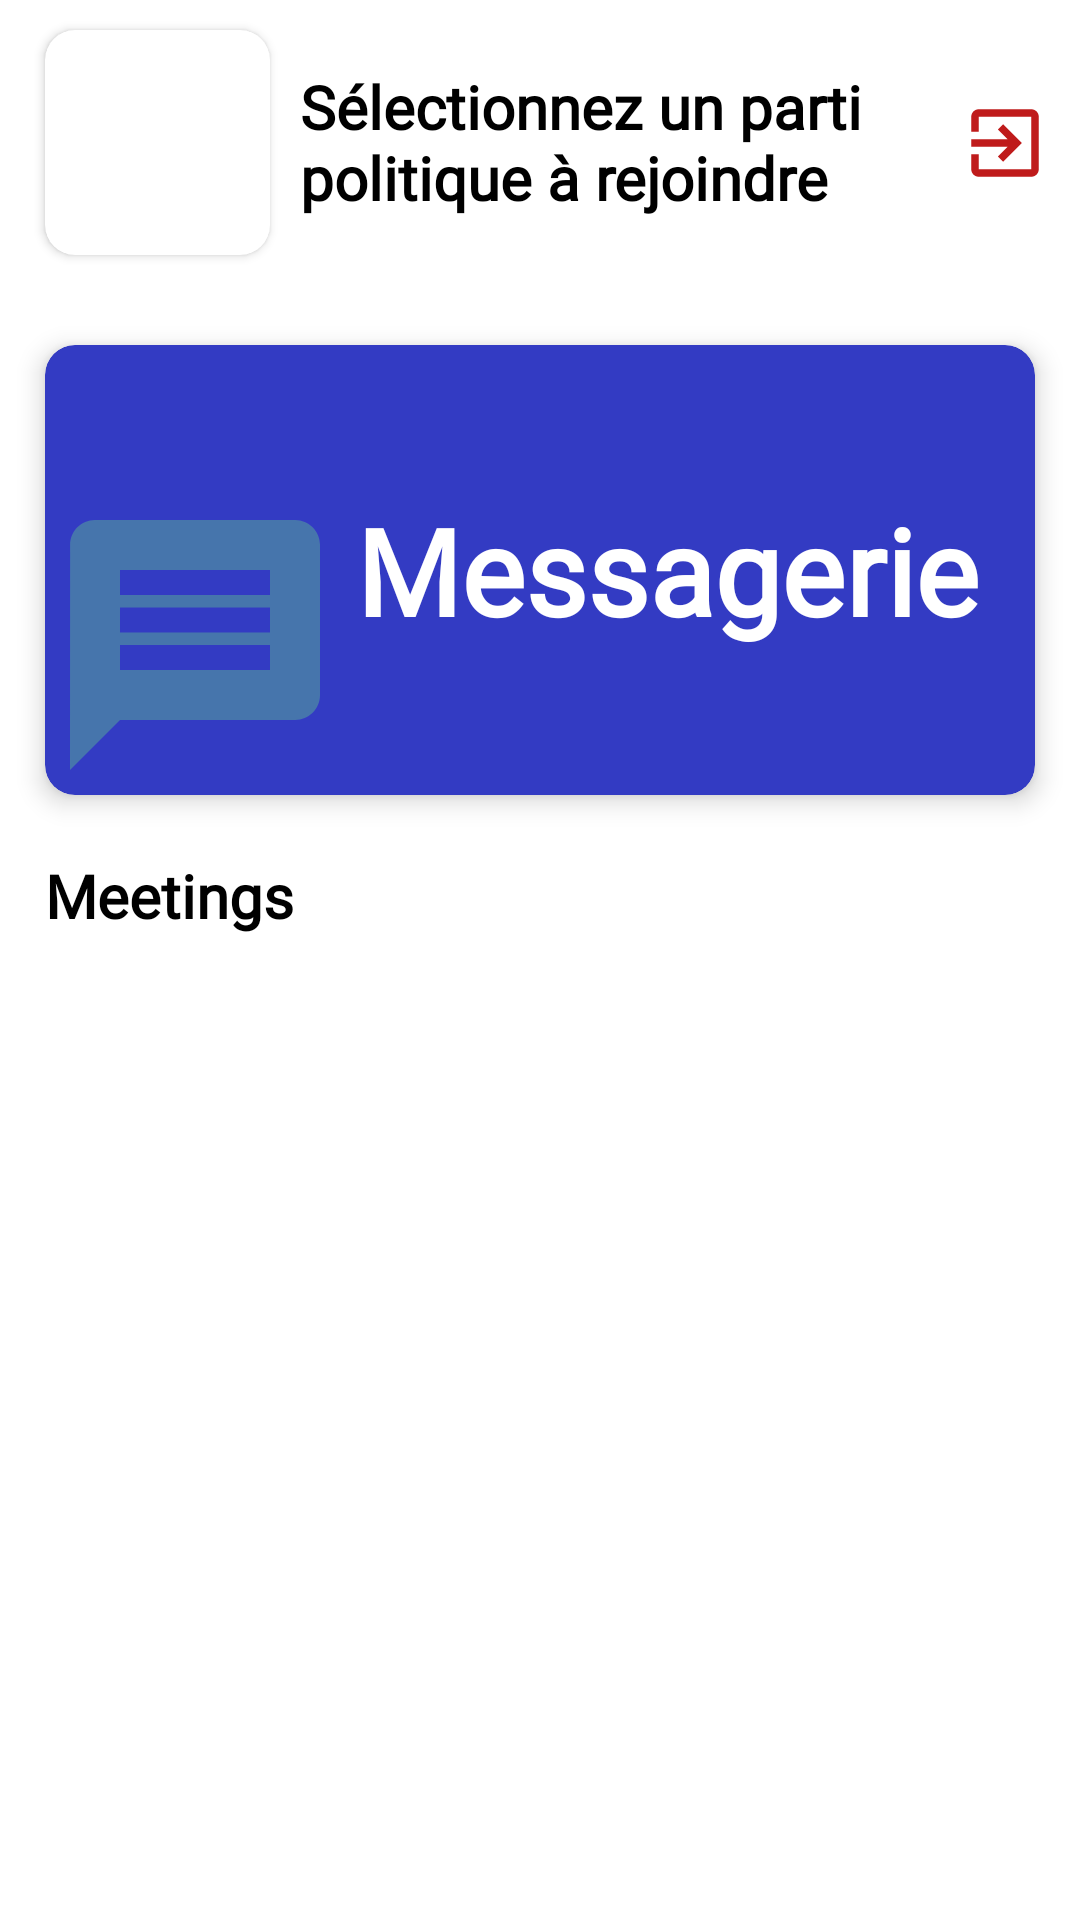

Icon click points for this 1080x1920 phone screenshot, format point (x, y):
exit: point (1005, 143)
